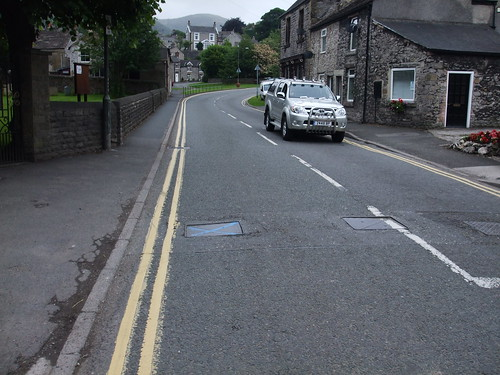building: (359, 1, 500, 124), (314, 9, 361, 120), (270, 1, 316, 98), (173, 20, 227, 76)
car: (259, 76, 354, 145)
road: (174, 93, 481, 375)
sidewalk: (1, 142, 171, 375)
tree: (1, 1, 150, 70), (236, 42, 280, 89), (202, 48, 236, 84)
